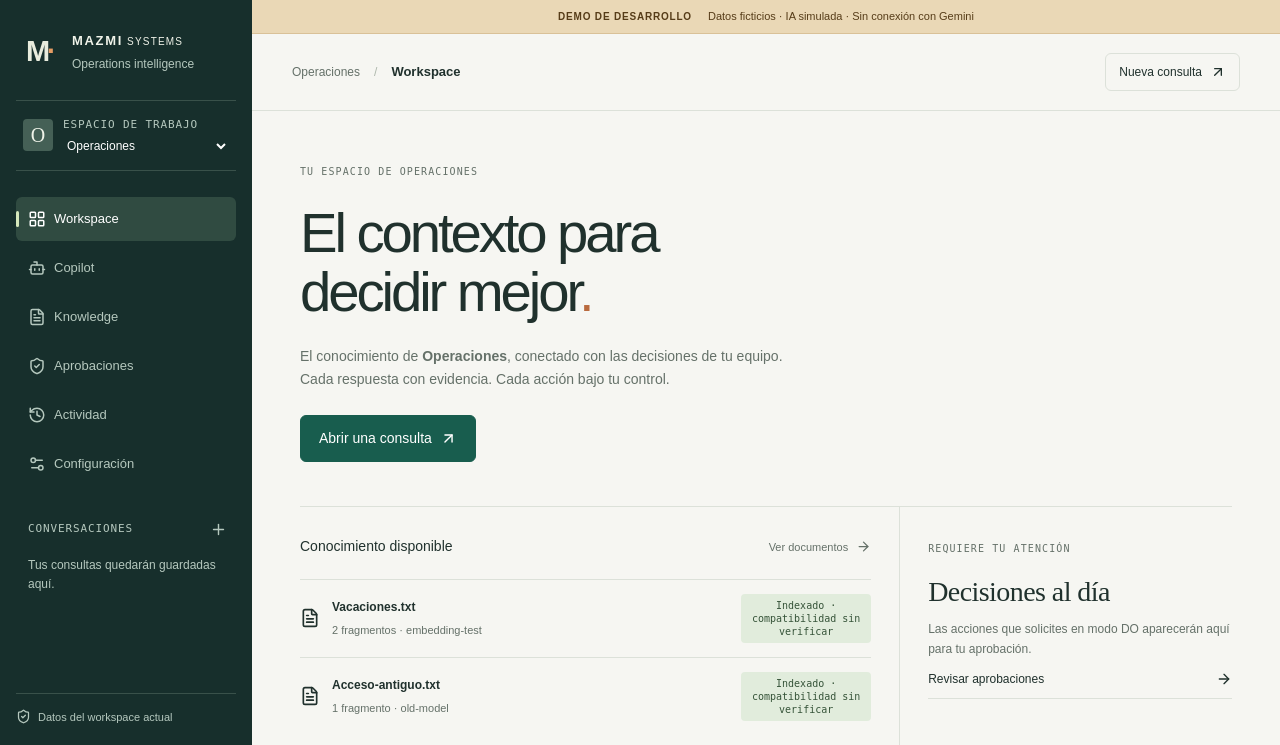
Test: demo chat labels simulation rather than a real local model
Expected: the text "DEMO DE DESARROLLO" is shown, [558,9,692,24]
Click the button "Copilot".
click(126, 268)  # box [16,246,236,290]
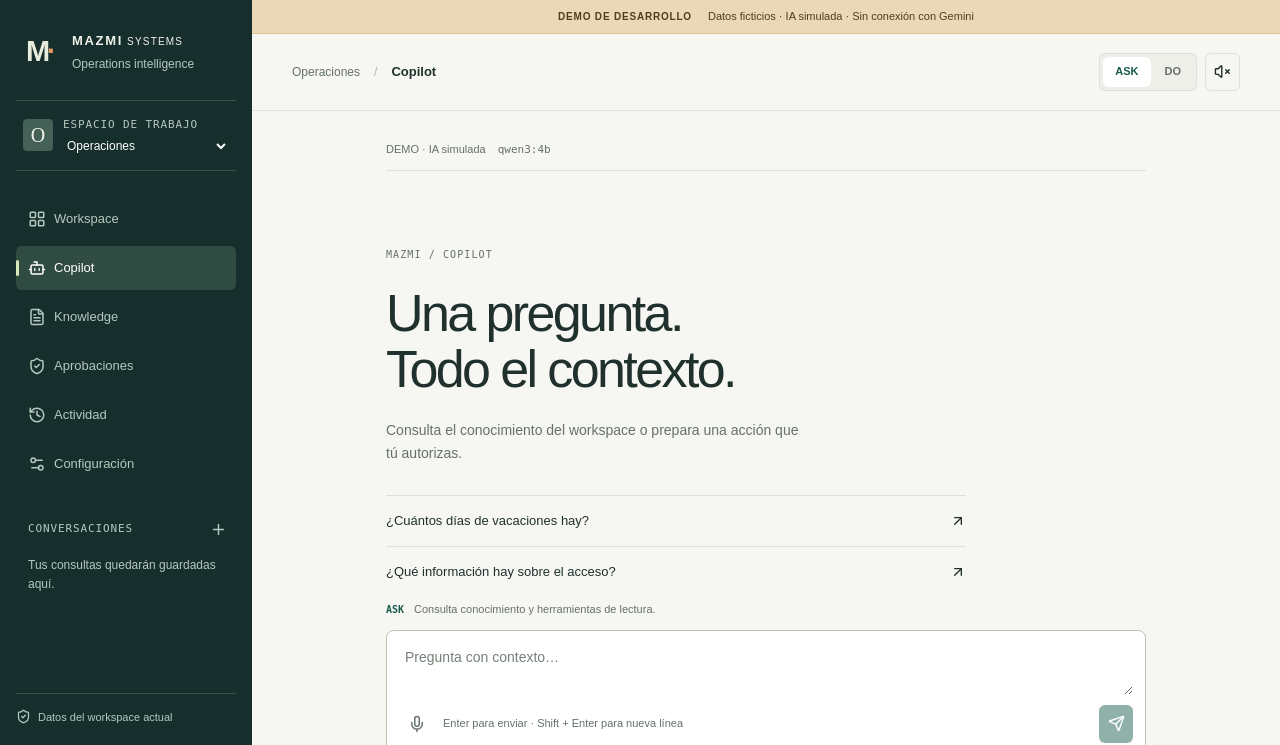
Expected: the element named "Proveedor de la consulta" does not show "prueba local completada", [386,140,1146,171]
Result: the element named "Proveedor de la consulta" shows "DEMO · IA simulada" at [386,142,486,154]
